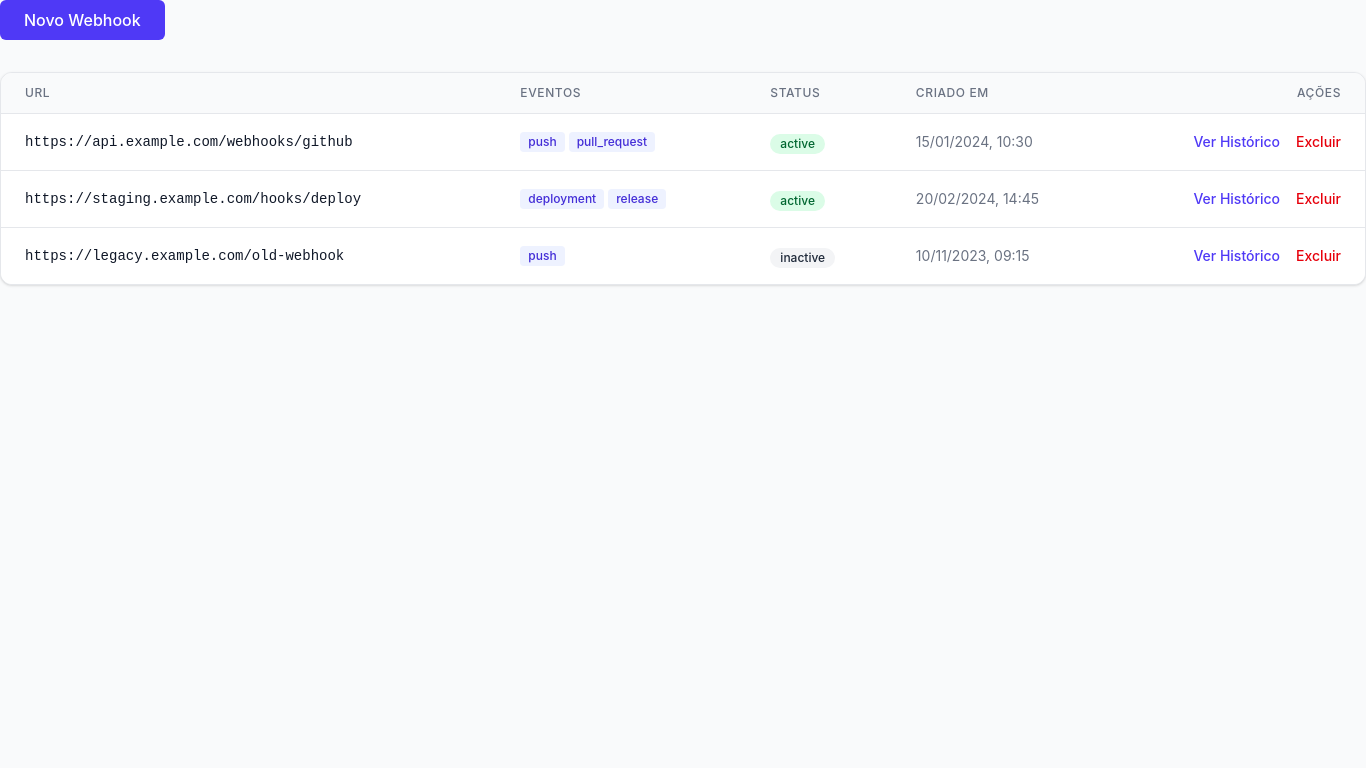
Test case: Webhooks Page - Interactions › closes modal when clicking overlay
Click the button "Novo Webhook". click: (82, 20)
box: [0,0,165,40]
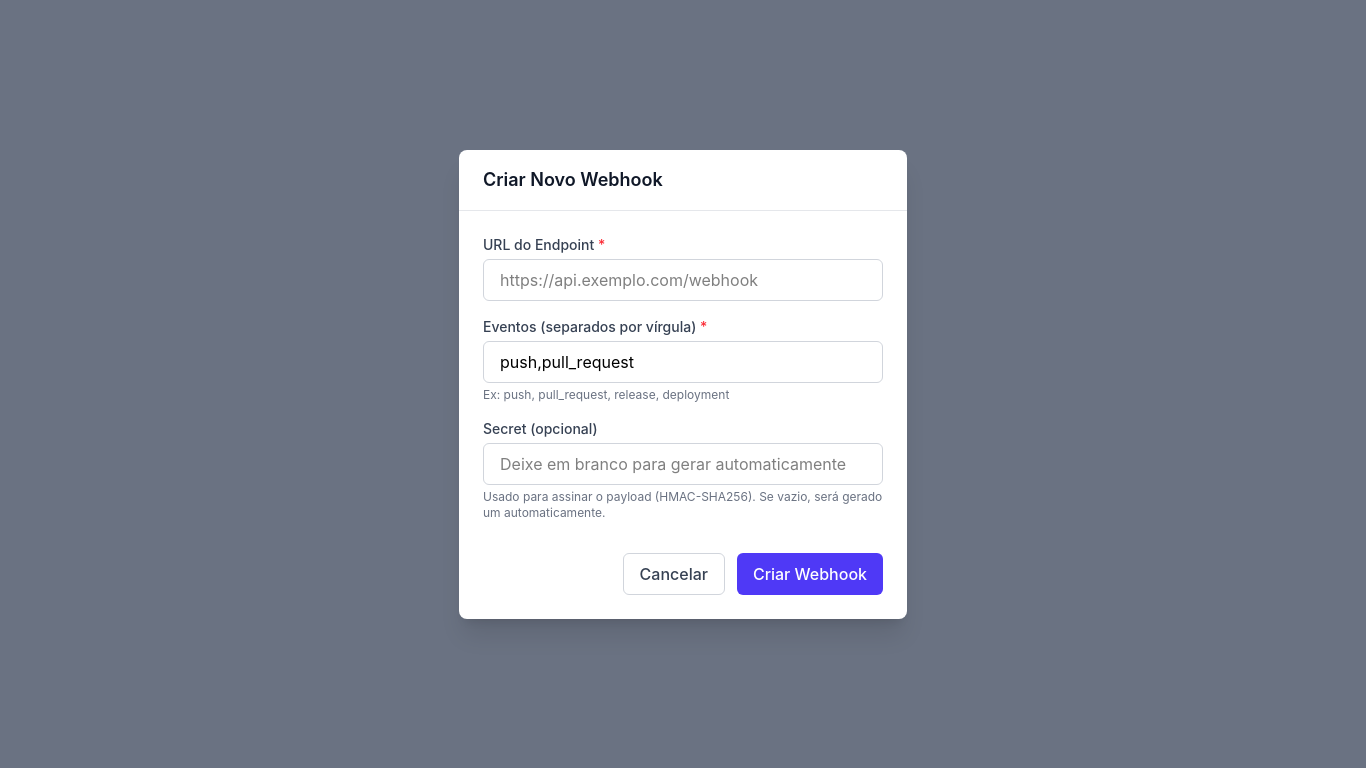
Expected: the dialog is shown
Click the 1st element with class "inset-0". click: (82, 384)
box: [0,0,1365,767]
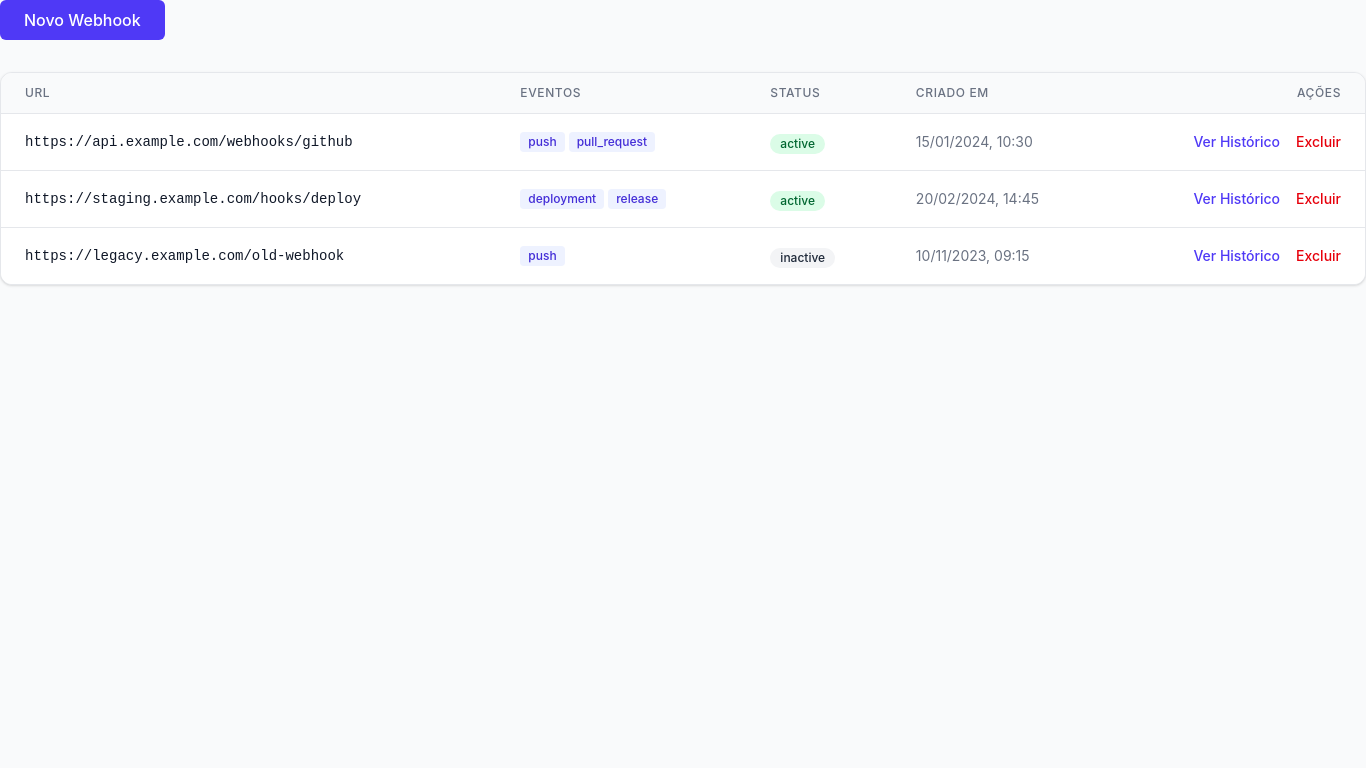
Expected: the dialog is gone
